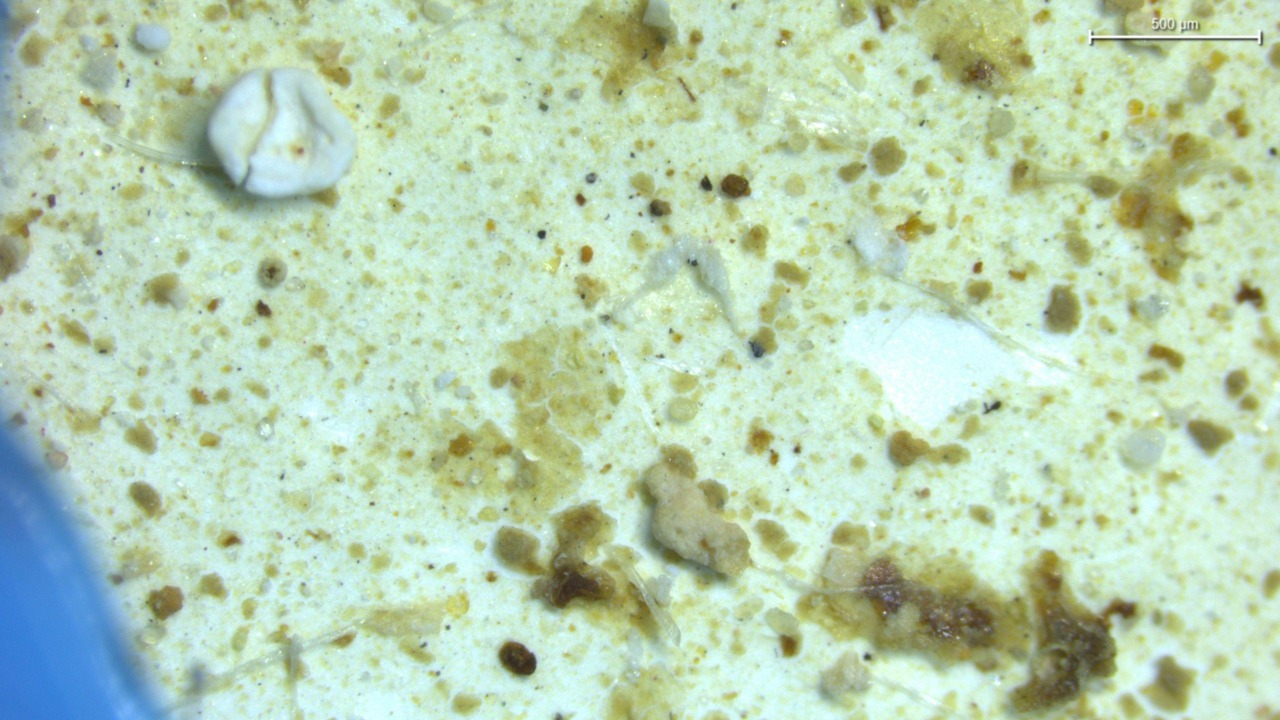microplastic_fragment: (207, 68, 355, 198), (613, 235, 739, 335), (645, 462, 750, 575), (851, 211, 908, 275), (1119, 429, 1165, 470), (134, 24, 171, 51)
